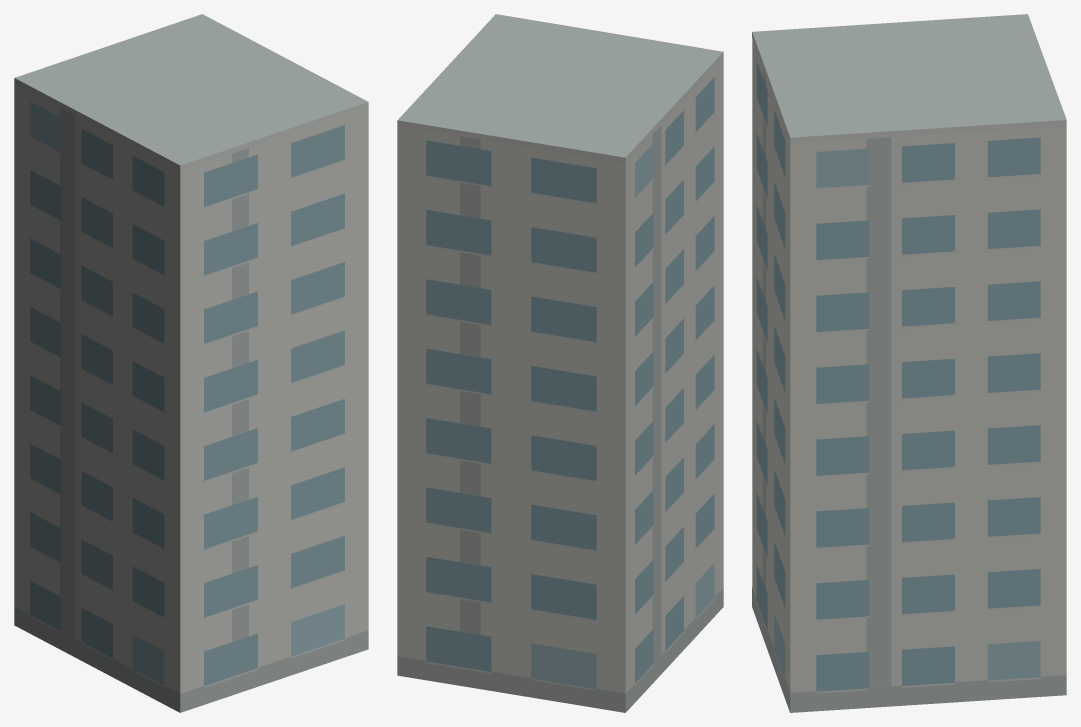
Rendered from survey-upis-32818992.glb.
3 renders of one model, left to right at view 1: azimuth 30°, elevation 25°; view 2: azimuth 150°, elevation 25°; view 3: azimuth 270°, elevation 25°, orthographic. The views are drawn at different scales.
Parts seen in each view (by area): view 1: survey-upis-32818992.tmp; view 2: survey-upis-32818992.tmp; view 3: survey-upis-32818992.tmp.
Boxes of the visible parts, x1,y1,x2,y2 form: survey-upis-32818992.tmp: (14, 14, 368, 712); survey-upis-32818992.tmp: (397, 14, 723, 712); survey-upis-32818992.tmp: (752, 14, 1066, 712).
Bounding box in the file's own units: 10.47 × 22.7 × 11.26.
